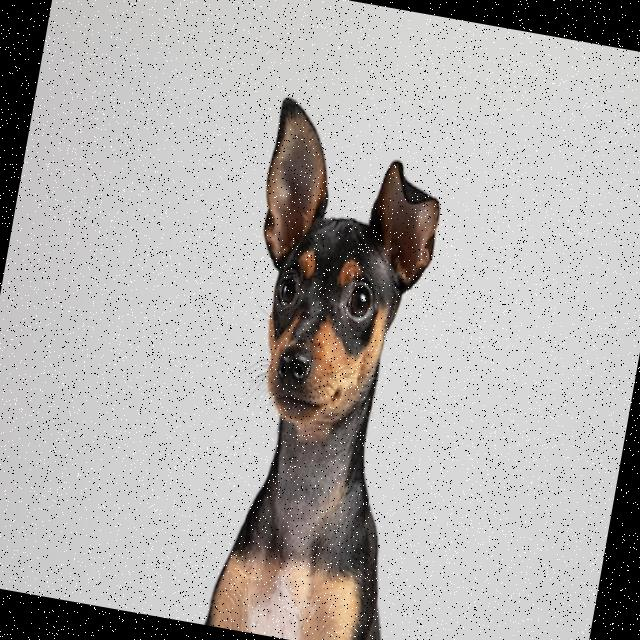Dog: (188, 95, 476, 640)
